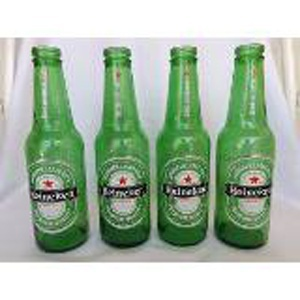emptybottle: (24, 46, 88, 254), (216, 44, 275, 249), (94, 44, 149, 248), (155, 46, 210, 247)
